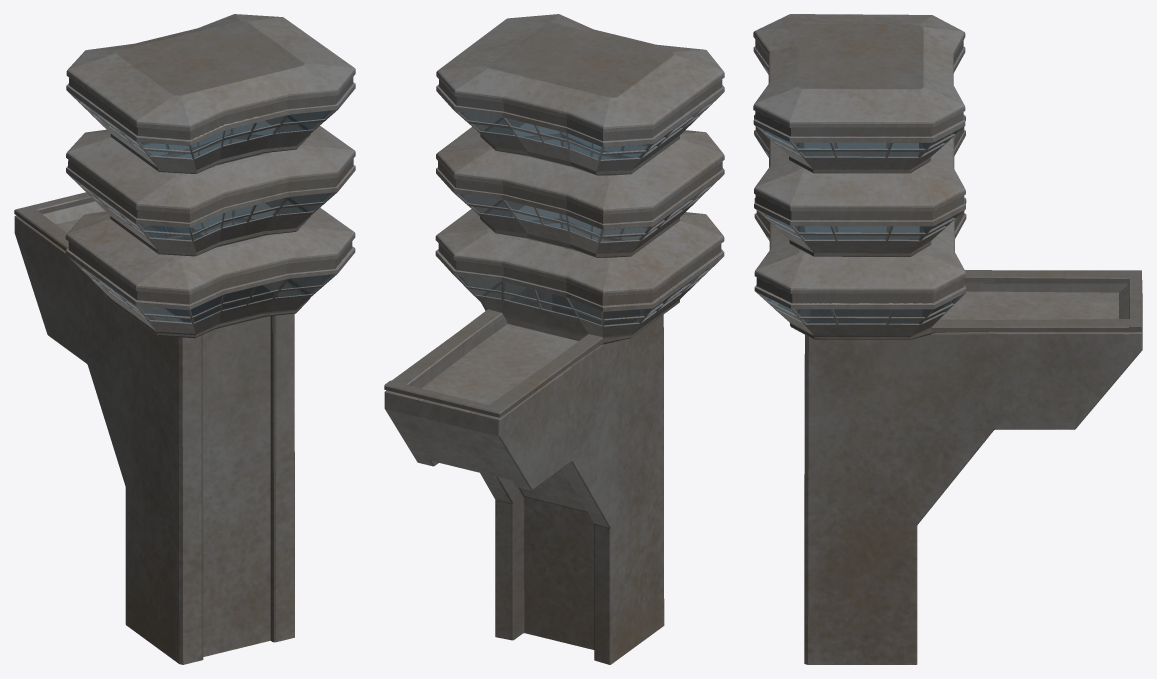
3 views of the same model, side by side, from view 1: azimuth 30°, elevation 25°; view 2: azimuth 150°, elevation 25°; view 3: azimuth 270°, elevation 25° (orthographic).
Visible parts, largest first — view 1: controlTower_low; view 2: controlTower_low; view 3: controlTower_low.
Part boxes in pixels (left/top/right/bottom): controlTower_low: left=14, top=14, right=355, bottom=664; controlTower_low: left=384, top=14, right=724, bottom=664; controlTower_low: left=753, top=14, right=1142, bottom=664.
Size of the model in its own units: 0.8025 by 2 by 1.22.
Materials: 1 (1 with a texture image).
